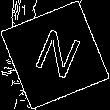N_SW: (27, 24, 83, 86)
